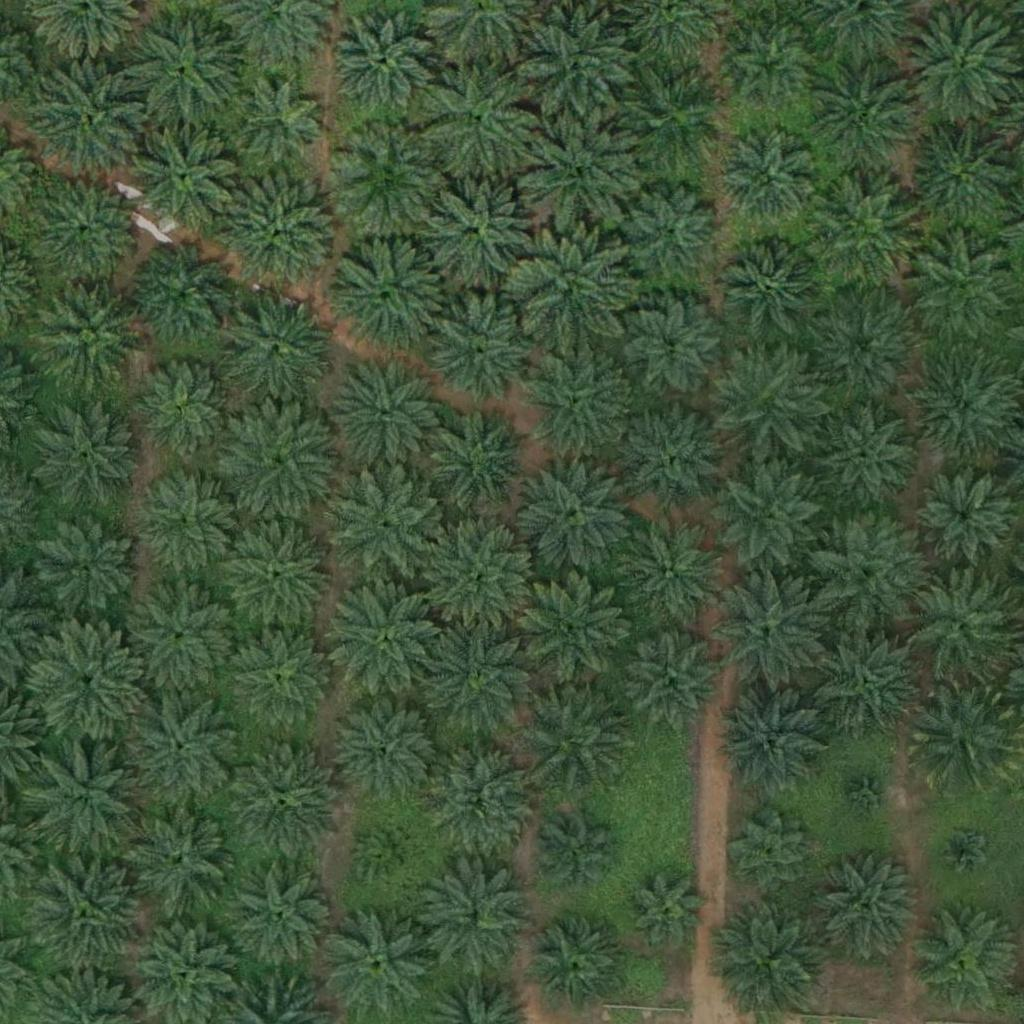Kelapa_Sawit: (809, 56, 922, 170), (907, 232, 1020, 346), (910, 352, 1023, 466), (424, 741, 537, 855), (330, 582, 443, 696), (30, 856, 143, 970), (128, 11, 241, 124), (129, 116, 242, 229), (223, 176, 336, 289), (333, 235, 446, 348), (519, 10, 632, 123), (521, 116, 634, 229), (515, 231, 628, 344), (904, 10, 1017, 123), (906, 119, 1019, 232), (714, 462, 827, 575), (714, 575, 827, 688), (717, 690, 830, 803), (612, 511, 725, 624), (428, 522, 541, 635), (422, 617, 535, 730), (329, 357, 442, 470), (333, 473, 446, 586), (220, 292, 333, 405), (225, 406, 338, 519), (32, 625, 145, 738), (29, 737, 142, 850), (322, 908, 435, 1021), (418, 865, 531, 978), (717, 903, 830, 1016), (30, 277, 142, 391), (810, 181, 922, 295), (226, 520, 338, 634), (29, 401, 141, 515), (909, 903, 1021, 1017), (908, 679, 1020, 792), (30, 65, 142, 178), (28, 175, 140, 288), (332, 121, 444, 234), (426, 63, 538, 176), (424, 169, 536, 282), (617, 64, 729, 177), (806, 290, 918, 403), (906, 569, 1018, 682), (806, 515, 918, 628), (810, 622, 922, 735), (709, 344, 821, 457), (521, 348, 633, 461), (518, 459, 630, 572), (523, 571, 635, 684), (522, 678, 634, 791), (428, 293, 540, 406), (228, 746, 340, 859), (127, 583, 239, 696), (131, 693, 243, 806), (125, 802, 237, 915), (810, 853, 922, 966), (131, 243, 231, 344), (231, 76, 331, 177), (331, 9, 431, 110), (621, 181, 721, 282), (623, 300, 723, 401), (723, 242, 823, 343), (915, 466, 1015, 567), (817, 407, 917, 508), (623, 404, 723, 505), (624, 631, 724, 732), (433, 410, 533, 511), (233, 867, 333, 968), (718, 129, 818, 229), (338, 699, 438, 799), (231, 630, 331, 730), (132, 362, 232, 462), (137, 476, 237, 576), (40, 520, 140, 620), (533, 921, 621, 1010), (724, 26, 812, 114), (729, 811, 816, 899), (542, 821, 617, 897), (628, 872, 703, 947), (359, 824, 421, 887), (844, 769, 894, 820), (938, 825, 988, 876)
